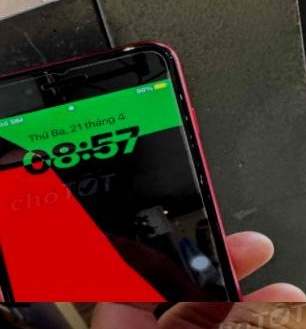scratch: (38, 66, 52, 77)
